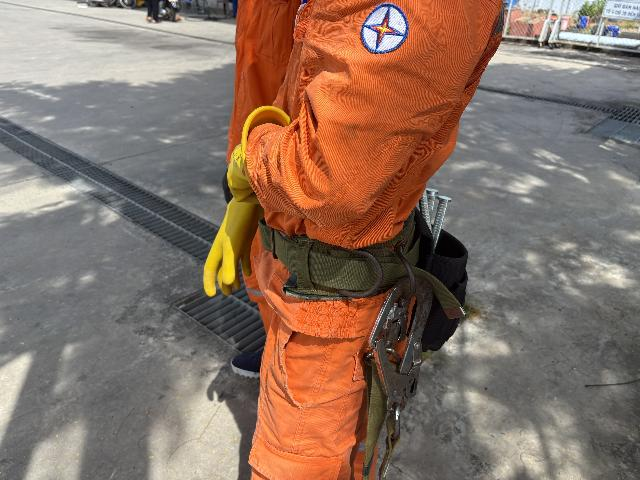gloves: (204, 175, 268, 306), (216, 123, 304, 205)
harness: (244, 206, 417, 308)
